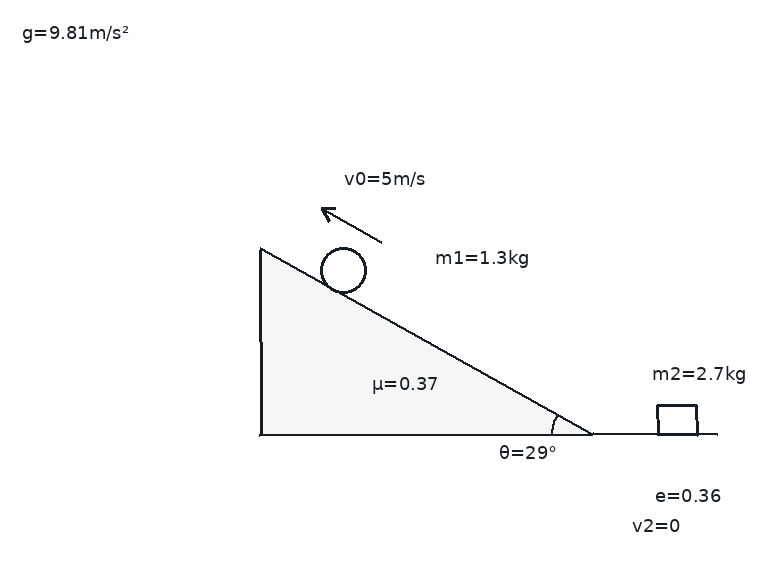ball: (318, 245, 368, 295)
block: (655, 403, 699, 436)
ramp: (259, 248, 594, 436)
